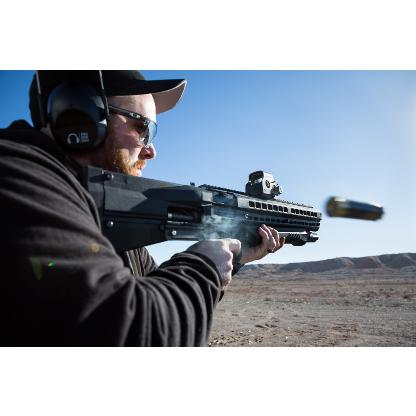gun: (78, 162, 322, 291)
